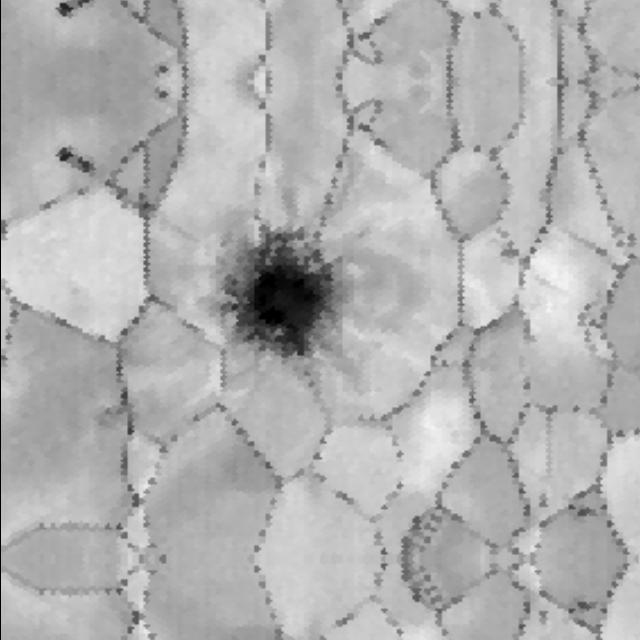good_void: (206, 225, 347, 370), (49, 138, 100, 180), (574, 300, 604, 344), (49, 0, 100, 24), (90, 399, 126, 429), (492, 230, 521, 260), (535, 487, 552, 514), (535, 603, 552, 629), (147, 84, 170, 102), (574, 504, 597, 522), (147, 60, 170, 78), (574, 594, 597, 612)
